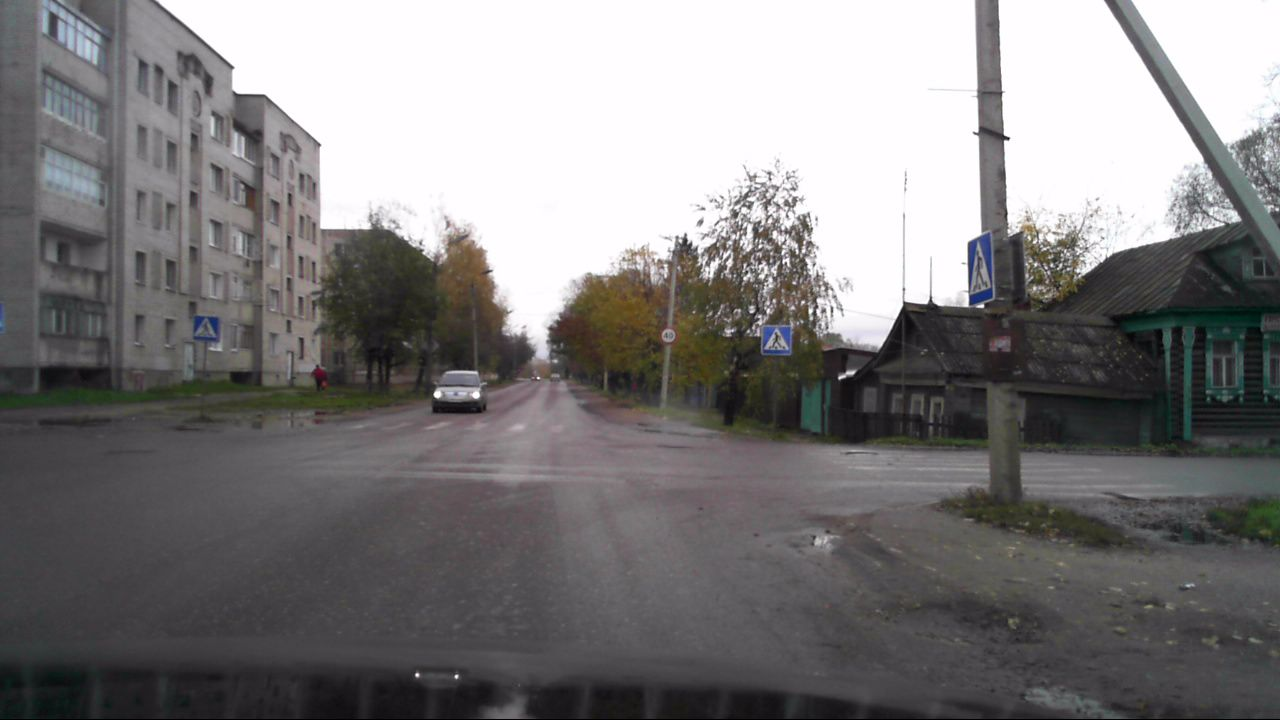speed_warning_40: (659, 325, 677, 344)
